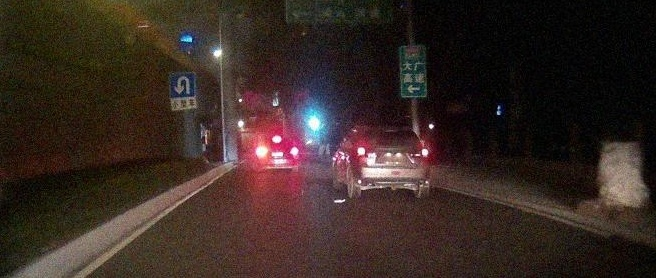L_light: (353, 146, 370, 156), (257, 147, 267, 153)
R_light: (414, 149, 429, 159), (290, 148, 299, 154)
T_light: (386, 131, 397, 135), (273, 136, 282, 140)
night-left: (256, 135, 300, 172)
night-no: (352, 126, 430, 198)
